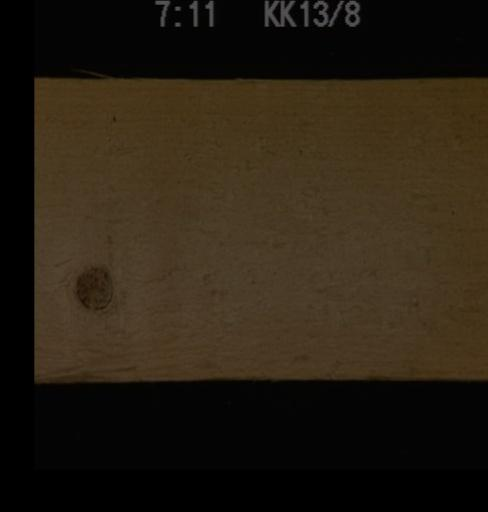dry_knot: (72, 261, 115, 310)
